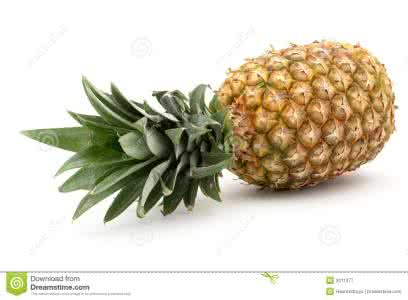pineapple: (33, 48, 397, 203)
